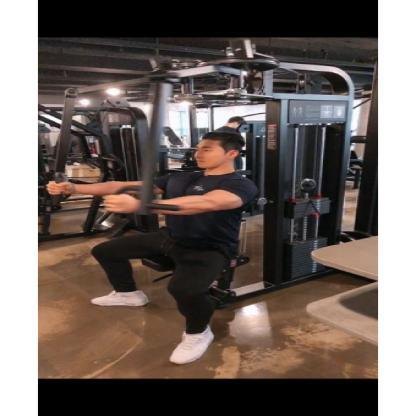chest fly machine: (28, 31, 383, 375)
